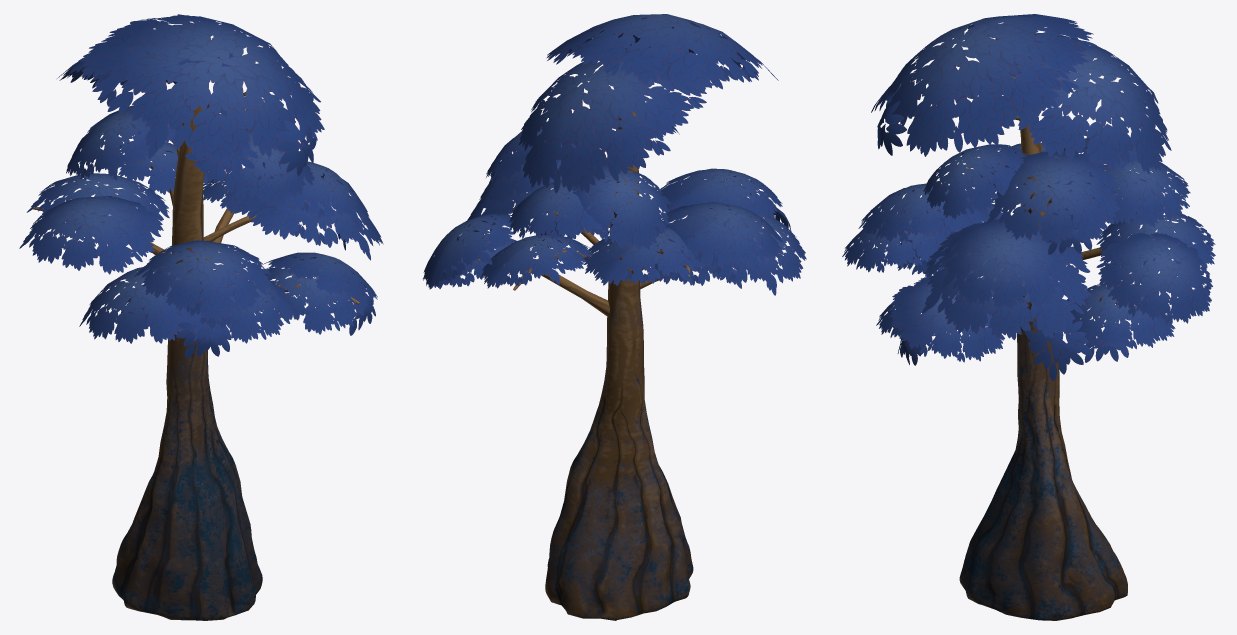
File: MarshTree_d01.fbx
3 renders of one model, left to right at view 1: azimuth 30°, elevation 25°; view 2: azimuth 150°, elevation 25°; view 3: azimuth 270°, elevation 25°, orthographic. The views are drawn at different scales.
Visible parts, largest first — view 1: Tree_d01; view 2: Tree_d01; view 3: Tree_d01.
Part boxes in pixels (x1=…): Tree_d01: x1=19, y1=14, x2=383, y2=620; Tree_d01: x1=423, y1=14, x2=806, y2=620; Tree_d01: x1=842, y1=14, x2=1215, y2=620.
Bounding box in the file's own units: 20.78 × 34.88 × 21.88.
